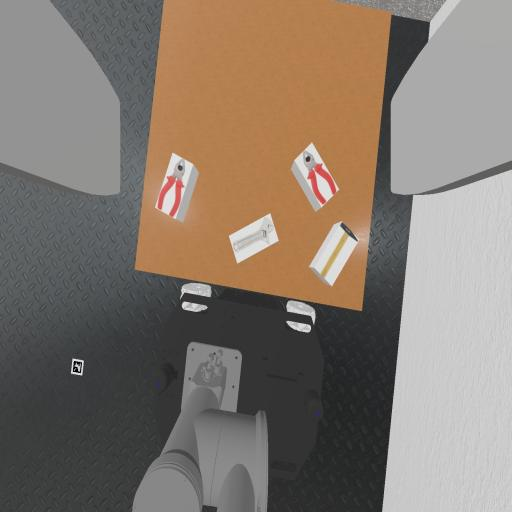hammer: (321, 223, 358, 276)
pliers: (304, 151, 336, 204), (157, 159, 185, 216)
wrench: (233, 218, 273, 252)
